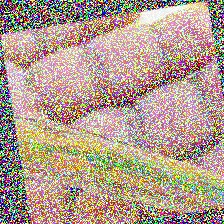Leaf_Blast: (26, 100, 203, 224)
